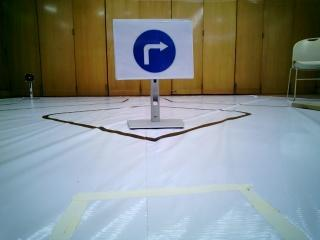right: (116, 20, 190, 78)
